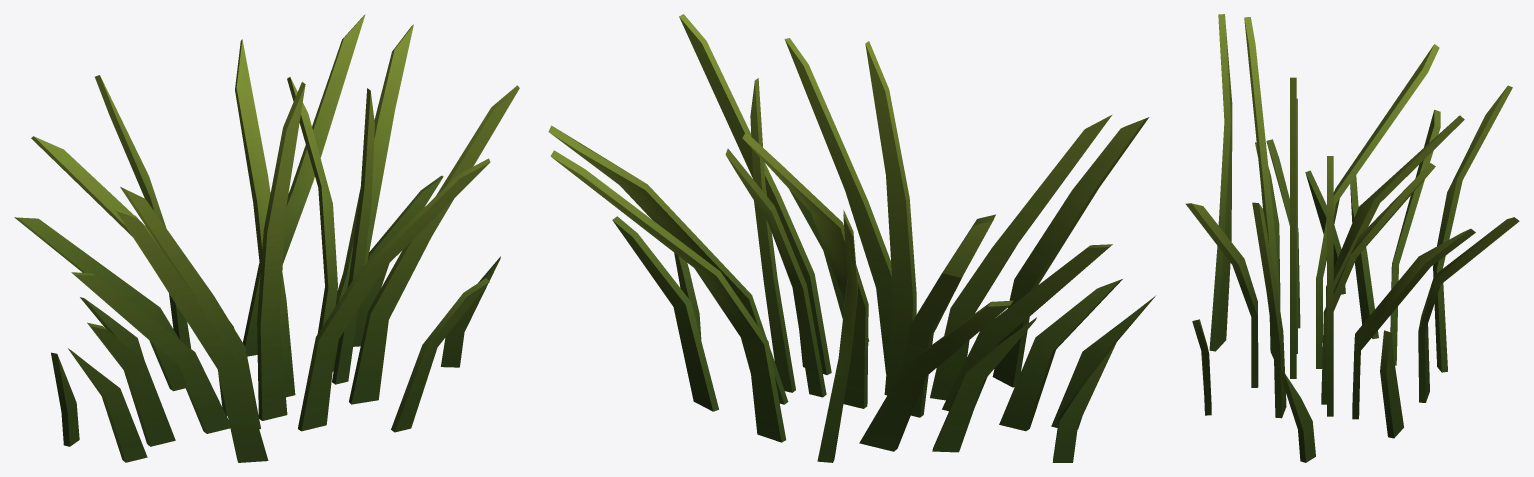
File: Grass_Large_Extruded.glb
3 views of the same model, side by side, from view 1: azimuth 30°, elevation 25°; view 2: azimuth 150°, elevation 25°; view 3: azimuth 270°, elevation 25° (orthographic). The views are drawn at different scales.
Parts seen in each view (by area): view 1: Grass_Large_Extruded; view 2: Grass_Large_Extruded; view 3: Grass_Large_Extruded.
Boxes of the visible parts, x1=… form: Grass_Large_Extruded: x1=14, y1=14, x2=519, y2=462; Grass_Large_Extruded: x1=548, y1=14, x2=1155, y2=462; Grass_Large_Extruded: x1=1185, y1=14, x2=1519, y2=462.
Bounding box in the file's own units: 0.7447 × 0.5089 × 0.4973.
Materials: 1 (1 with a texture image).
